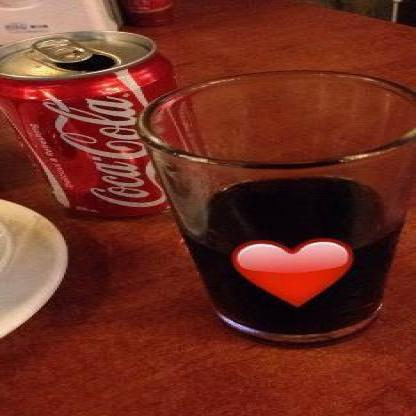alumunium_can: (2, 30, 180, 218)
